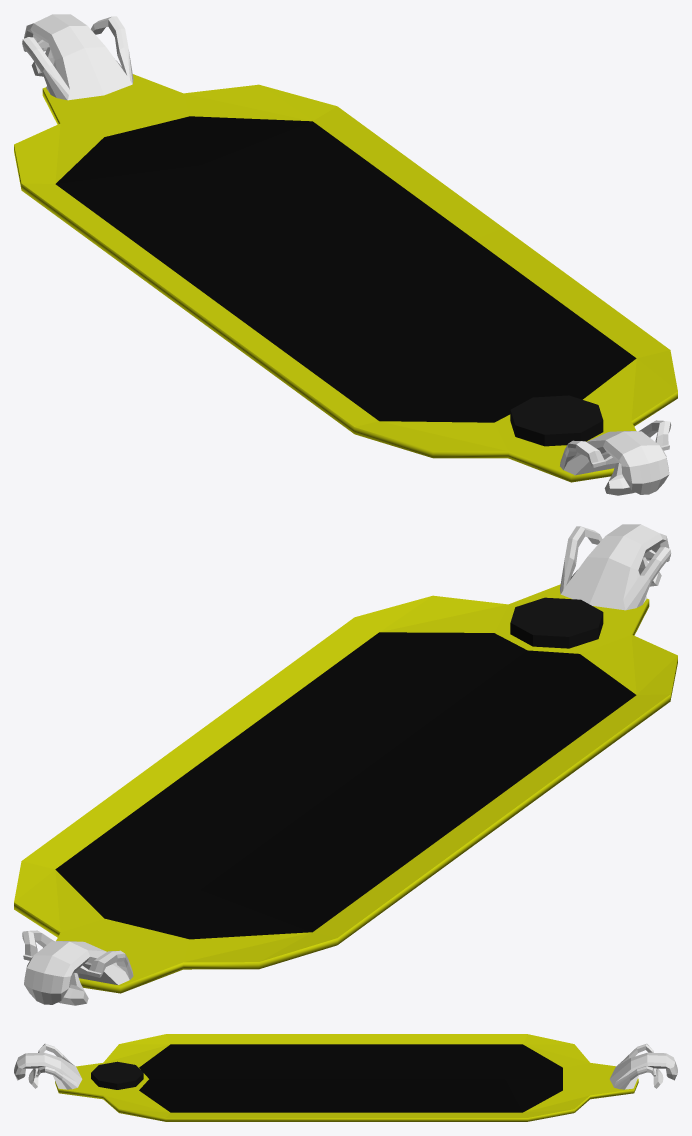
File: board_type_3.fbx
3 renders of one model, top to bottom at view 1: azimuth 30°, elevation 25°; view 2: azimuth 150°, elevation 25°; view 3: azimuth 270°, elevation 25°, orthographic. The views are drawn at different scales.
Parts seen in each view (by area): view 1: Board._Type_3, Axle_Rear_Type_3_Part_2, Axle_Front_Type_3_Part_2; view 2: Board._Type_3, Axle_Front_Type_3_Part_2, Axle_Rear_Type_3_Part_2; view 3: Board._Type_3, Axle_Rear_Type_3_Part_2, Axle_Front_Type_3_Part_2.
Boxes of the visible parts, x1,y1,x2,y2 form: Board._Type_3: [14, 74, 677, 482]; Axle_Rear_Type_3_Part_2: [22, 14, 133, 100]; Axle_Front_Type_3_Part_2: [560, 420, 671, 495]; Board._Type_3: [14, 584, 677, 993]; Axle_Front_Type_3_Part_2: [560, 524, 671, 610]; Axle_Rear_Type_3_Part_2: [22, 930, 133, 1005]; Board._Type_3: [55, 1034, 638, 1121]; Axle_Rear_Type_3_Part_2: [609, 1043, 677, 1089]; Axle_Front_Type_3_Part_2: [14, 1043, 82, 1089].
Bounding box in the file's own units: 167 × 27.59 × 559.
